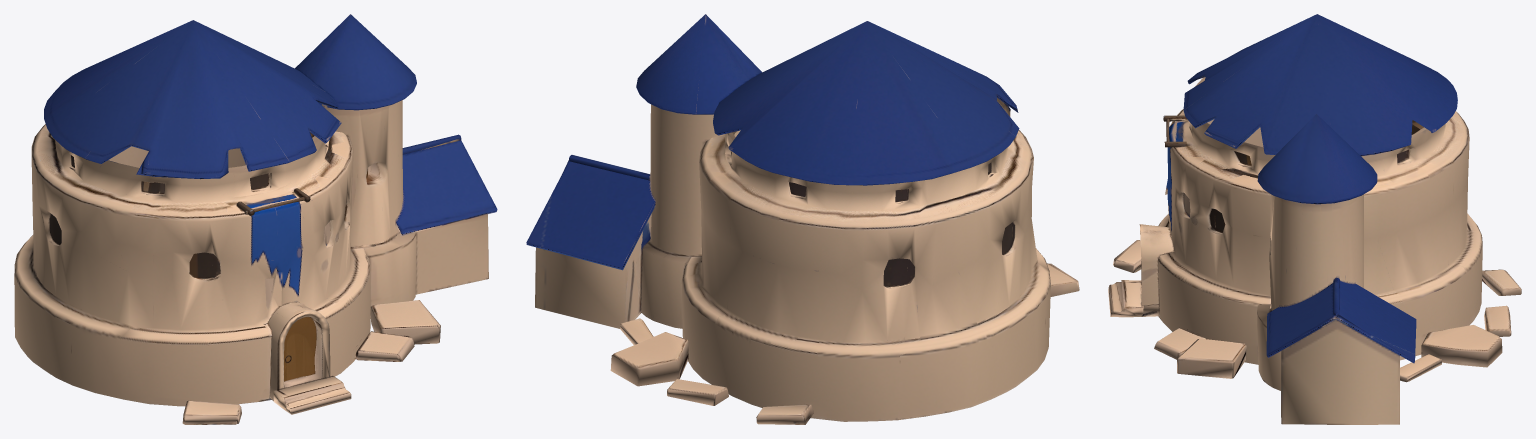
File: meshy-c5-d1.glb
3 views of the same model, side by side, from view 1: azimuth 30°, elevation 25°; view 2: azimuth 150°, elevation 25°; view 3: azimuth 270°, elevation 25° (orthographic). The views are drawn at different scales.
Size of the model in its own units: 1 by 0.6998 by 0.9107.
Materials: 1 (1 with a texture image).
